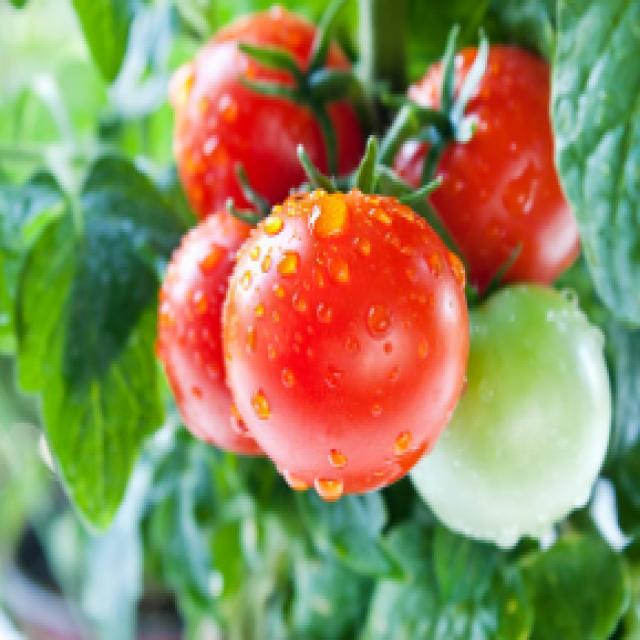Tomato: (229, 165, 477, 522)
